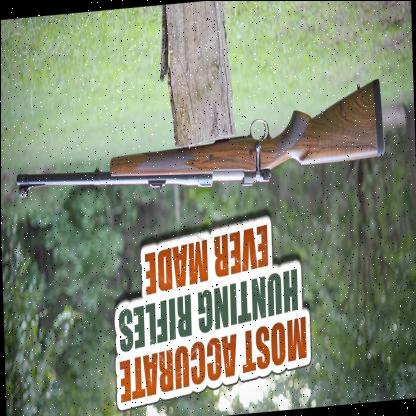rifle: (8, 76, 394, 209)
